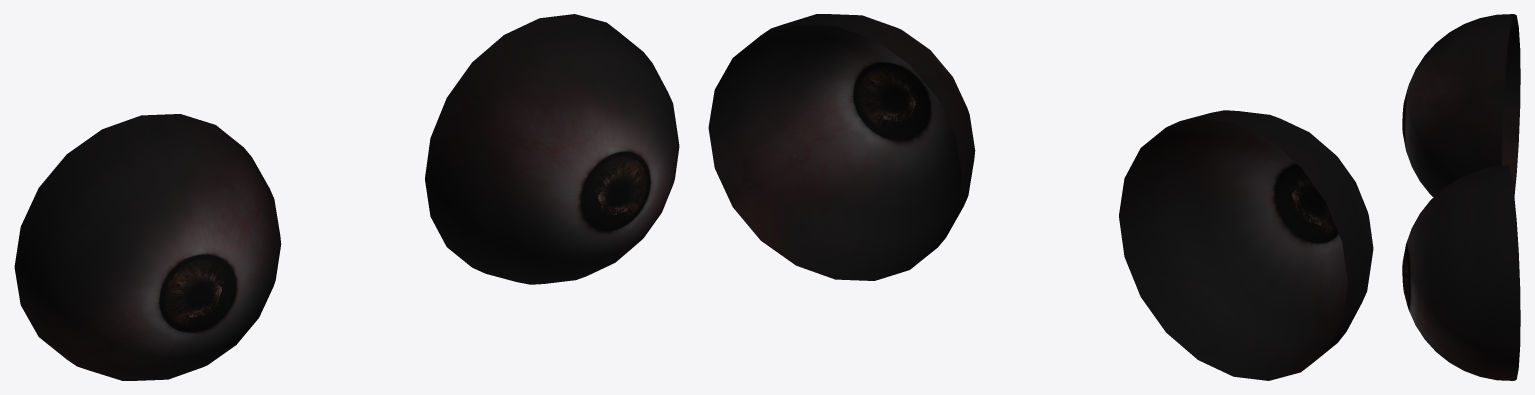
Rendered from eye_inner.obj.
3 views of the same model, side by side, from view 1: azimuth 30°, elevation 25°; view 2: azimuth 150°, elevation 25°; view 3: azimuth 270°, elevation 25° (orthographic). The views are drawn at different scales.
Parts seen in each view (by area): view 1: Eye_Inner; view 2: Eye_Inner; view 3: Eye_Inner.
Boxes of the visible parts, x1,y1,x2,y2 form: Eye_Inner: [14, 14, 679, 380]; Eye_Inner: [708, 14, 1373, 380]; Eye_Inner: [1402, 14, 1520, 380].
Bounding box in the file's own units: 0.6013 × 0.2277 × 0.1237.
Materials: 1 (1 with a texture image).
